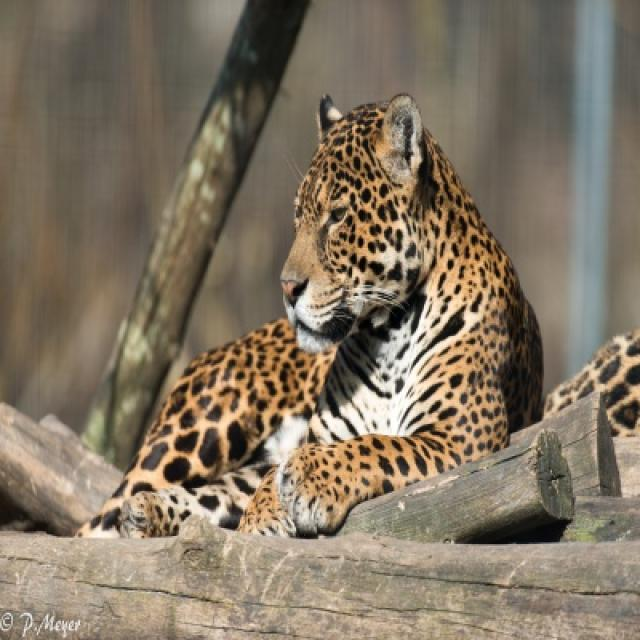Jaguar: (77, 94, 544, 541)
